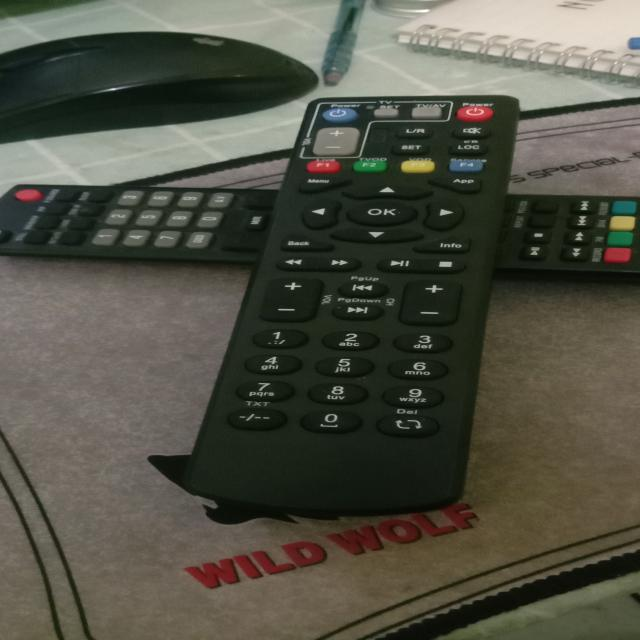remote: (174, 95, 534, 509)
